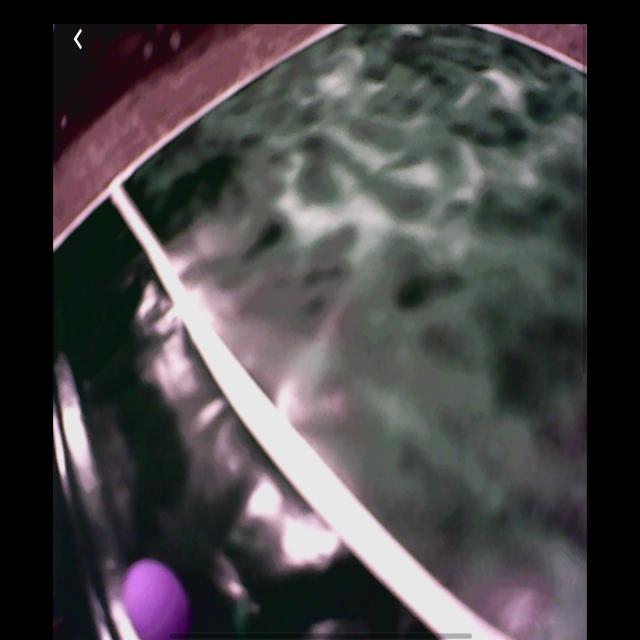ball: (122, 564, 184, 640)
